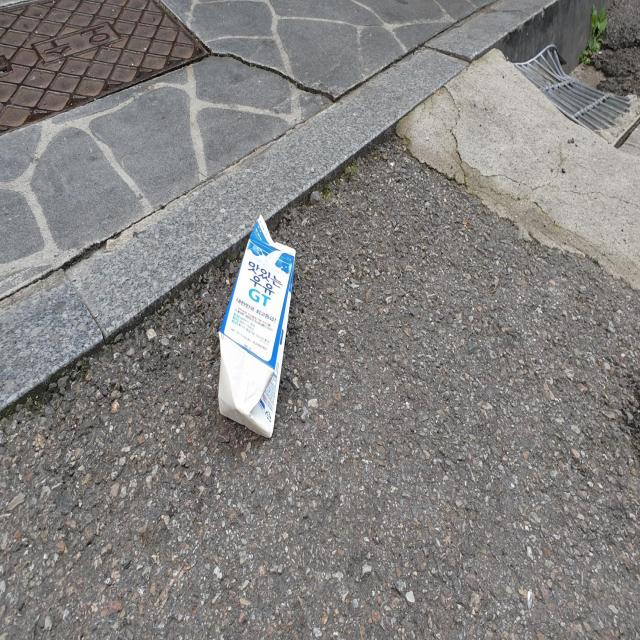paperpack: (218, 213, 295, 436)
